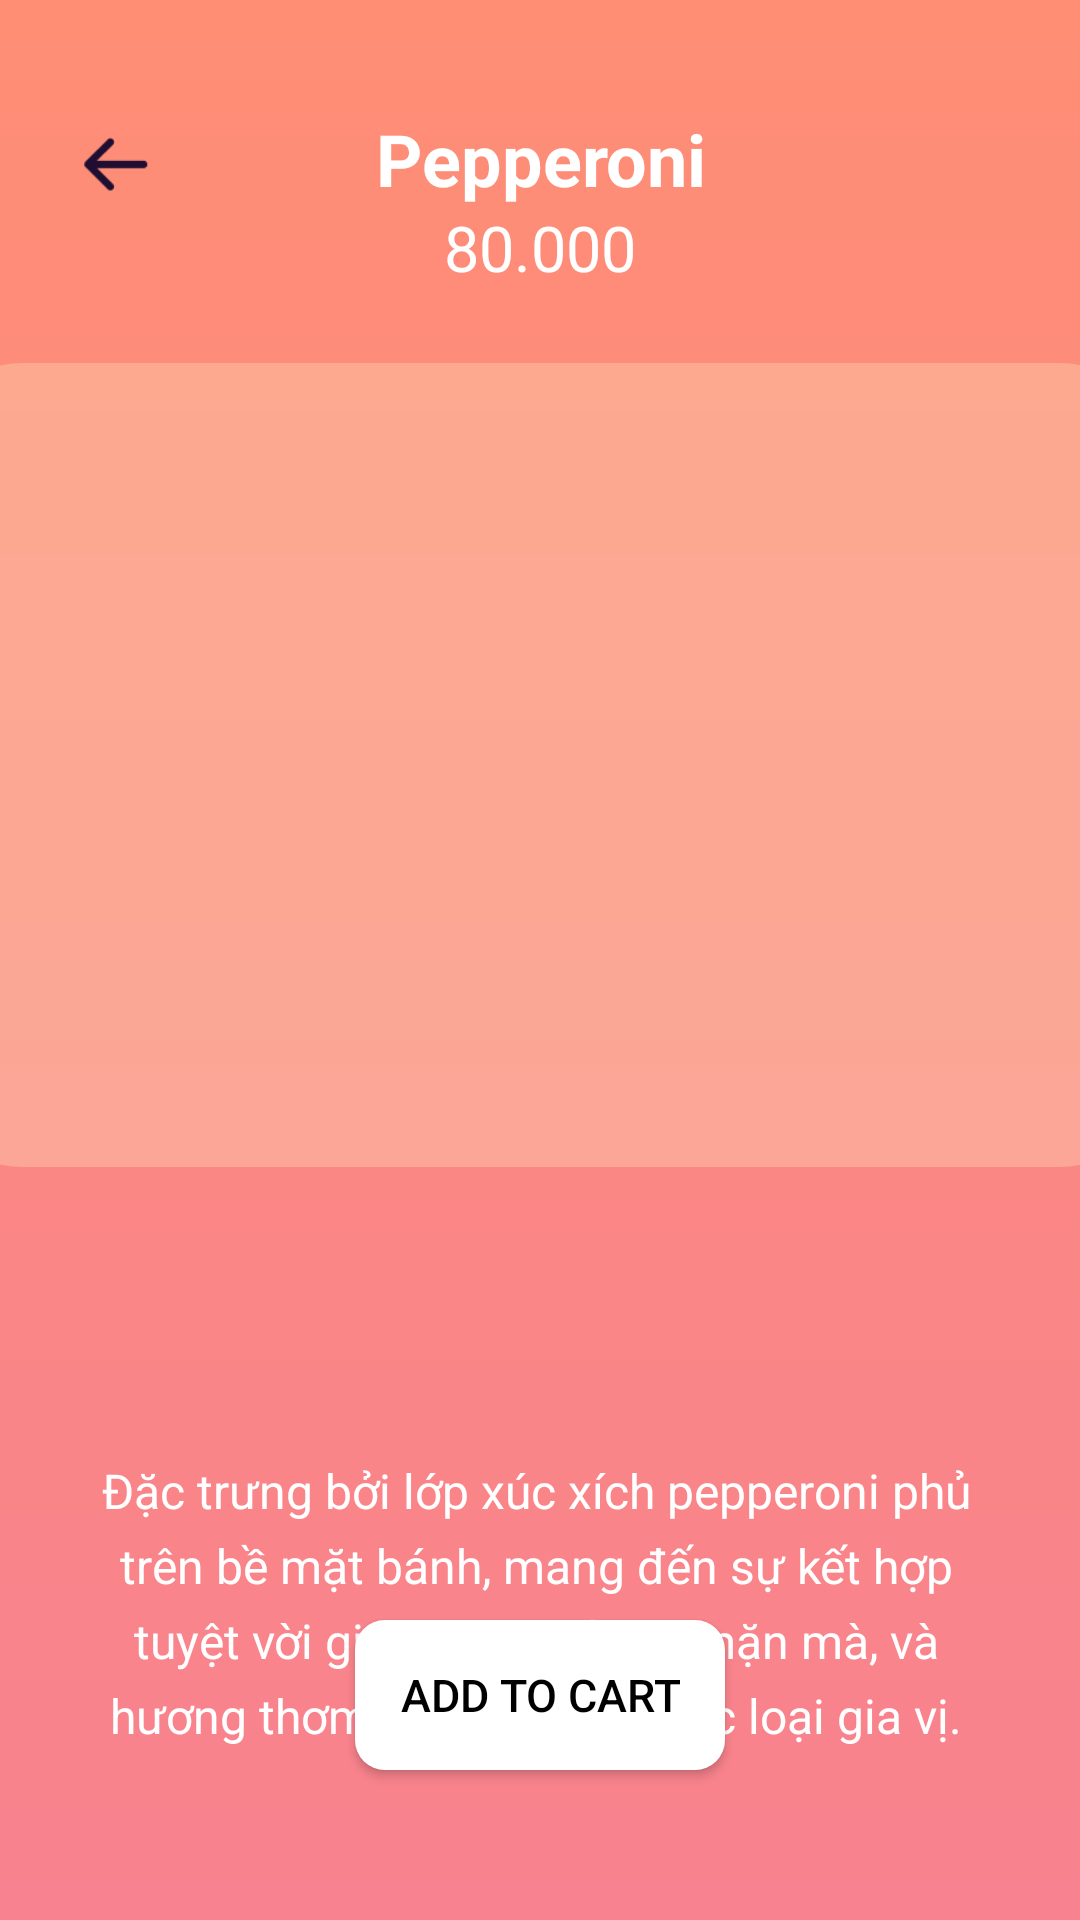

Screen size 1080*1920. Icon name, then its center in pixels as (x,y):
arrow left: (116,164)
